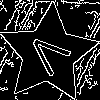V: (23, 28, 79, 84)
